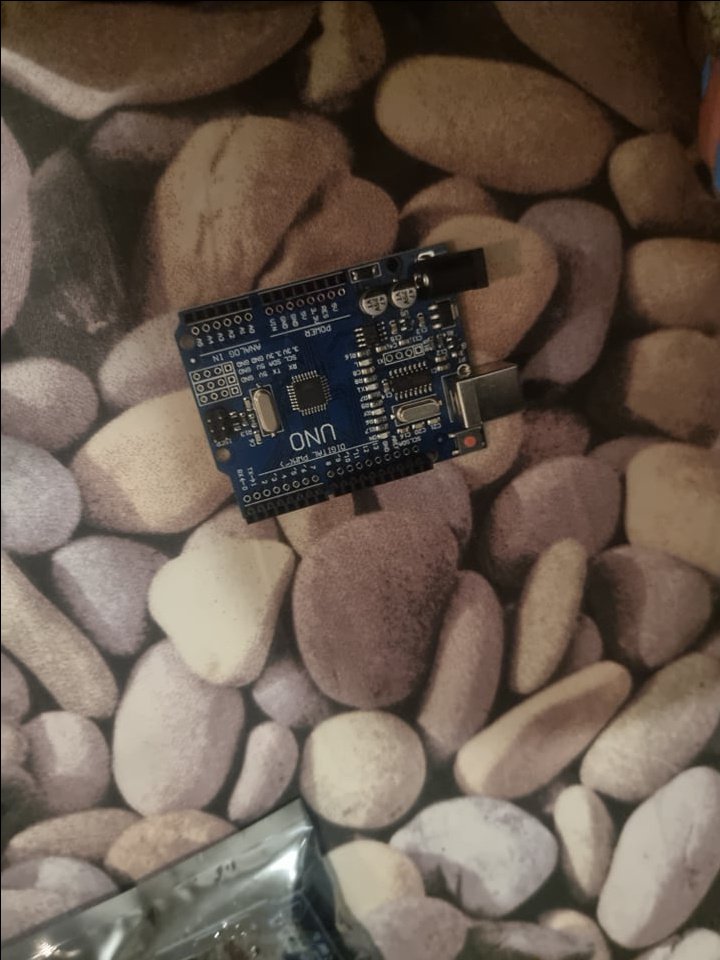UNO R3: (174, 238, 526, 526)
